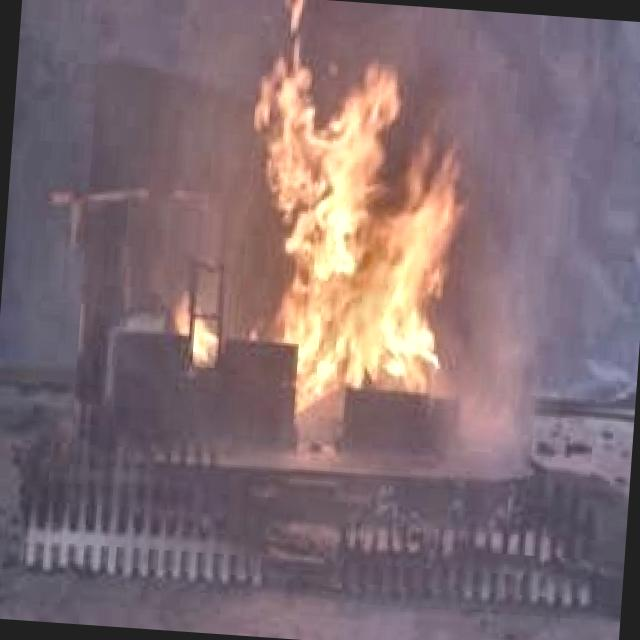fire: (232, 0, 506, 441)
